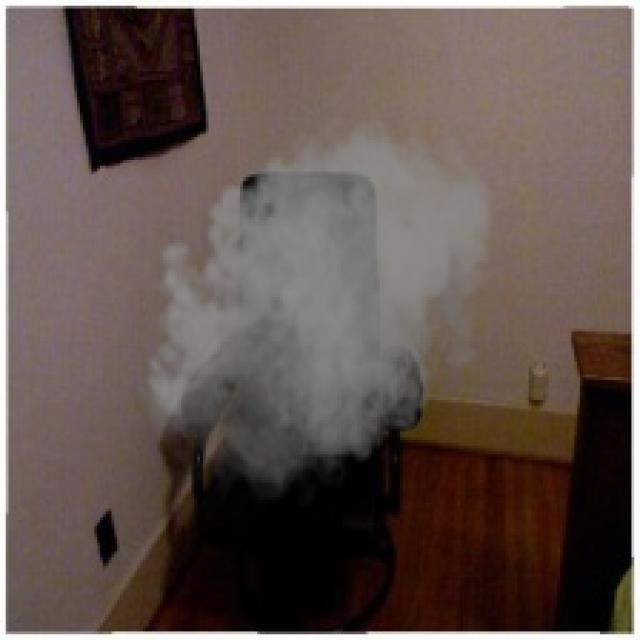Smoke: (134, 108, 500, 514)
